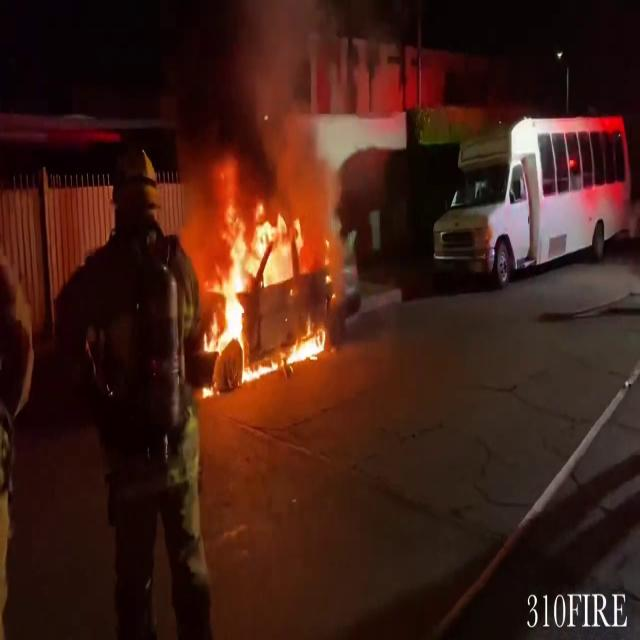Fire: (197, 185, 331, 388)
